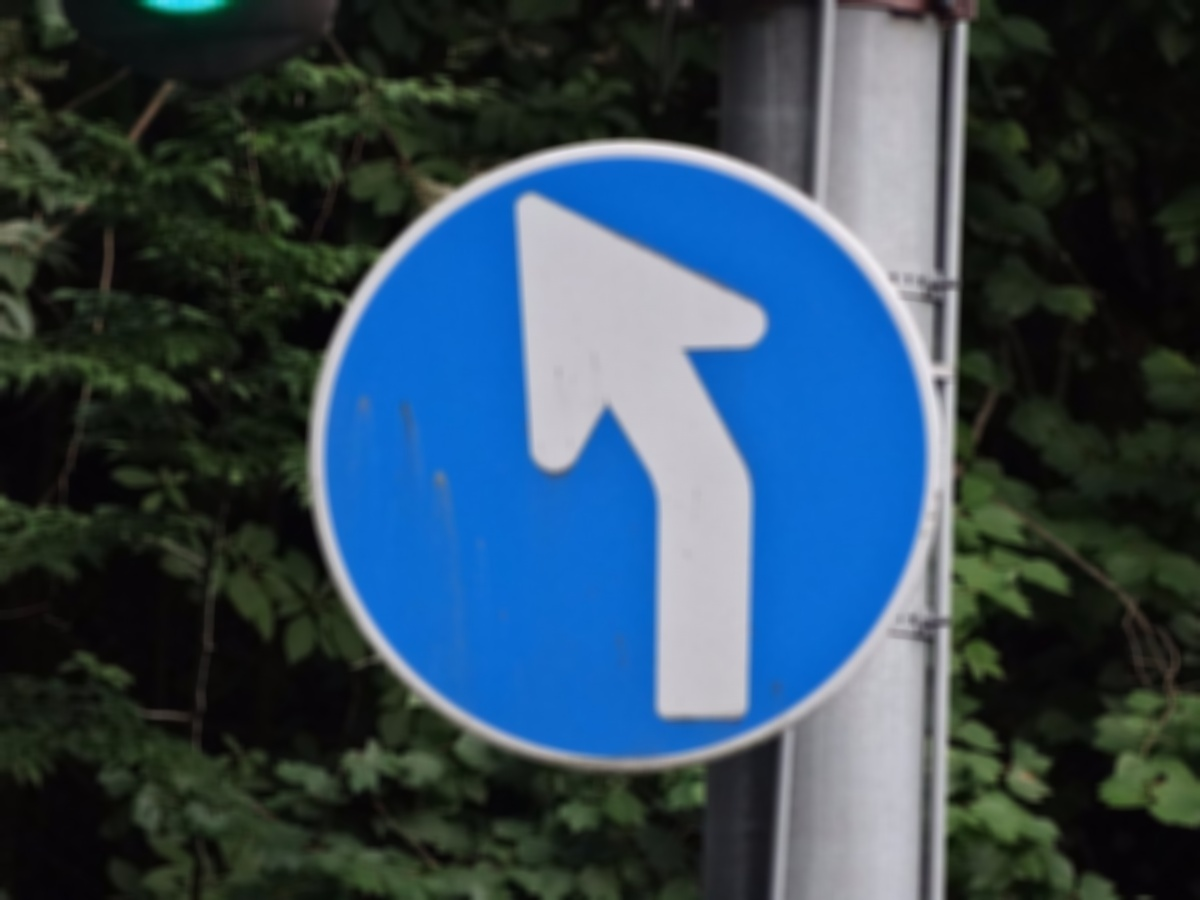Direction_sign: (270, 128, 1004, 822)
